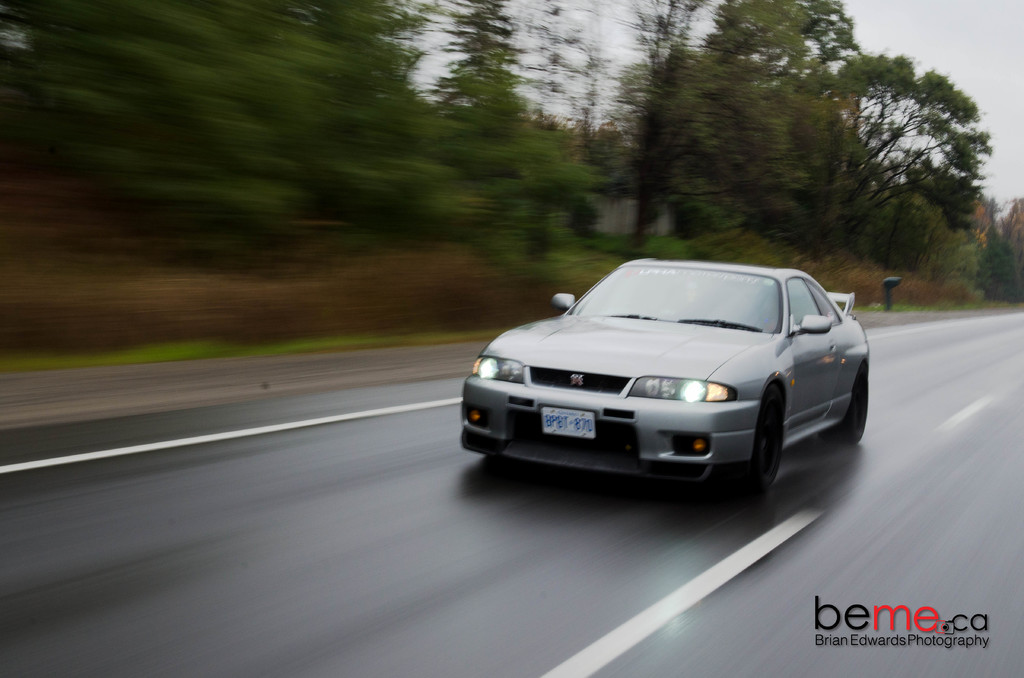Car: (451, 249, 879, 498)
